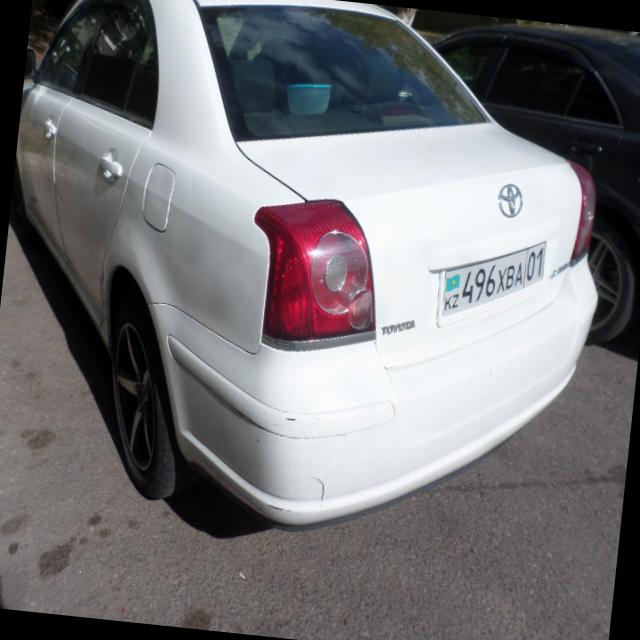Rayure: (299, 469, 337, 524), (263, 491, 296, 521), (277, 410, 301, 426)
